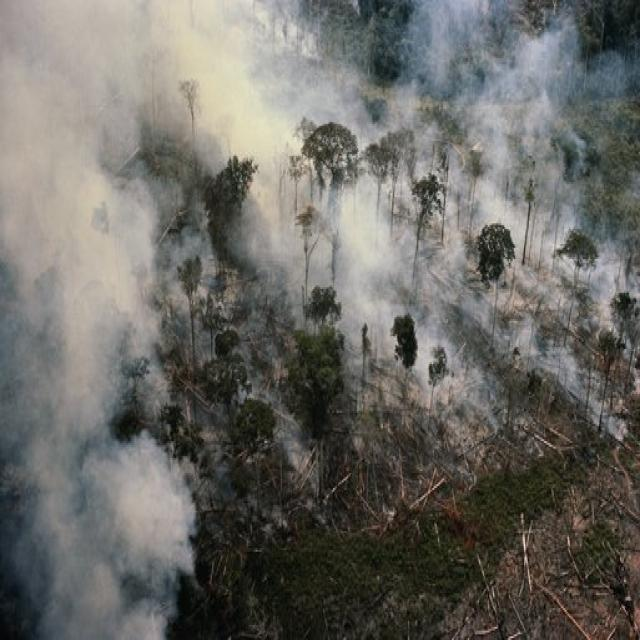Smoke: (233, 9, 627, 408), (3, 14, 212, 632)
